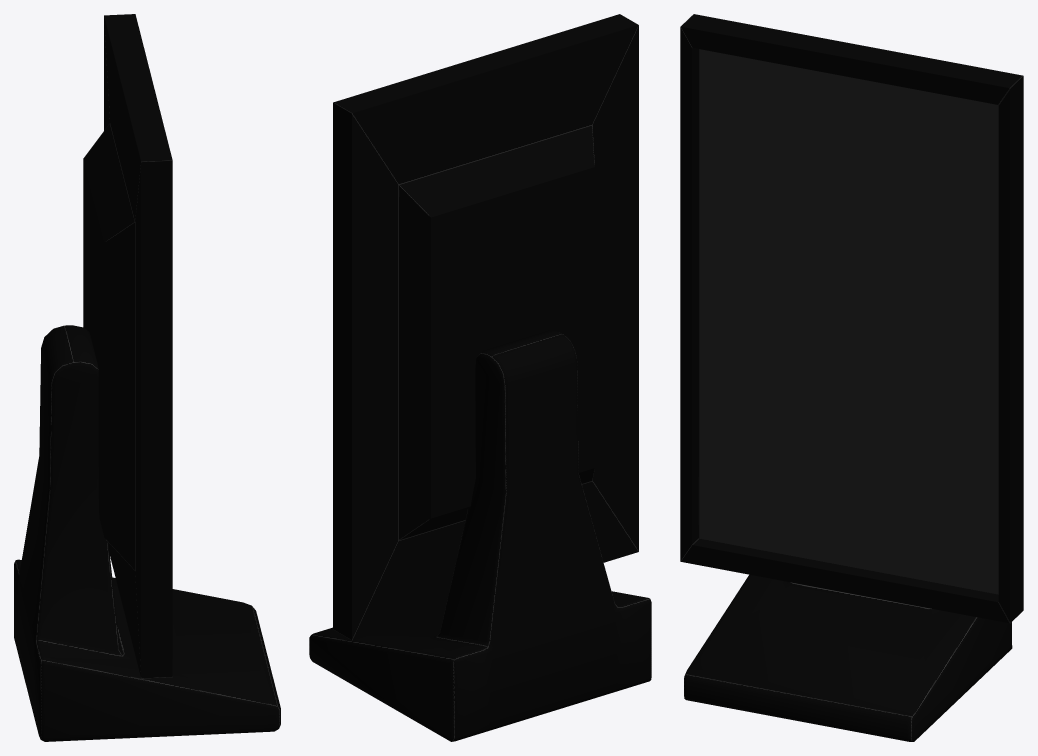
File: Computer.fbx
3 views of the same model, side by side, from view 1: azimuth 30°, elevation 25°; view 2: azimuth 150°, elevation 25°; view 3: azimuth 270°, elevation 25° (orthographic). The views are drawn at different scales.
Parts seen in each view (by area): view 1: Leg.002, Monitor.002; view 2: Monitor.002, Leg.002; view 3: Monitor.002, Leg.002.
Part boxes in pixels (x1,y1,x2,y2): Leg.002: [14, 325, 280, 741]; Monitor.002: [83, 14, 172, 678]; Monitor.002: [333, 14, 638, 640]; Leg.002: [309, 330, 651, 741]; Monitor.002: [680, 14, 1023, 623]; Leg.002: [684, 574, 1012, 741].
Bounding box in the file's own units: 260 × 543 × 272.
